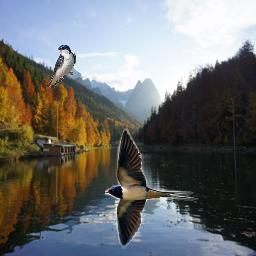Swallow: (105, 128, 194, 249), (45, 44, 76, 89)
